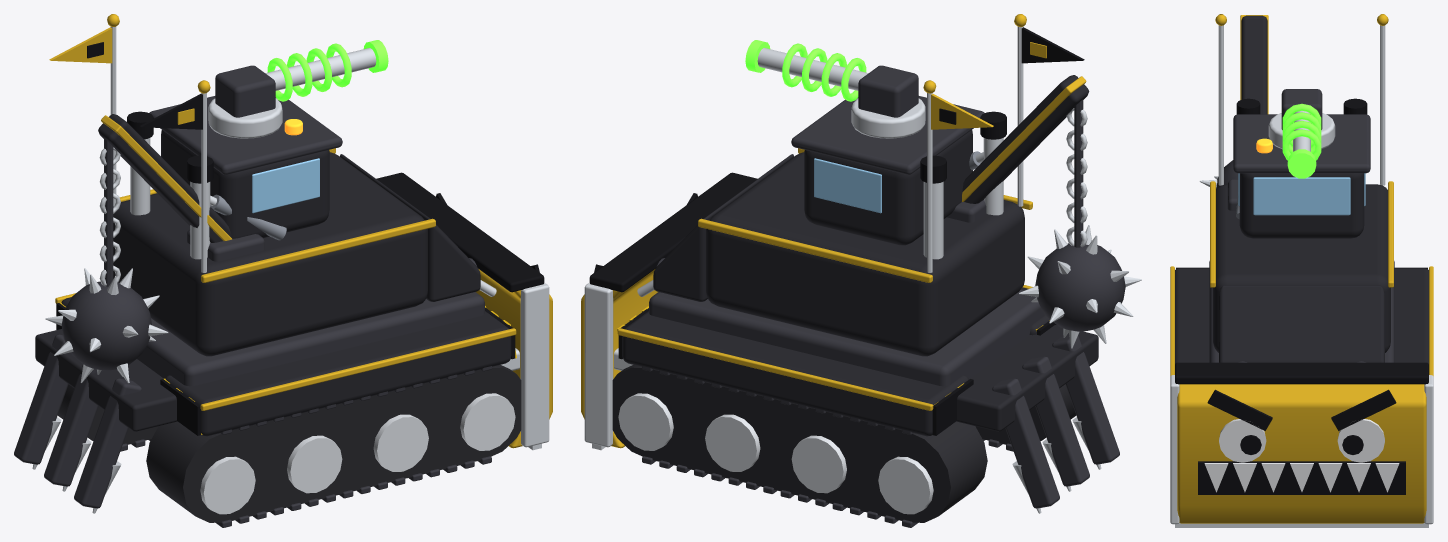
The model's file is vehicle_building_destroyer_t3.glb.
The picture shows the model from 3 angles, left to right: view 1: azimuth 30°, elevation 25°; view 2: azimuth 150°, elevation 25°; view 3: azimuth 270°, elevation 25°; orthographic projection. The views are drawn at different scales.
Visible parts, largest first — view 1: Hull.Upper, Track.Belt, Skirt, Hull, Crane.Star.Ball, Cab.Shell, Cab.Roof, Ripper.Beam, Blade.Rail, Blade.Wing, Ripper.Shank, Hull.Glacis (+30 smaller); view 2: Hull.Upper, Track.Belt.001, Skirt.001, Hull, Cab.Shell, Ripper.Beam, Crane.Star.Ball, Cab.Roof, Blade.Rail, Blade.Wing.001, Crane.Arm, Ripper.Shank.001 (+29 smaller); view 3: Blade.Shell, Hull.Glacis, Hull.Upper, Blade.Rail, Cab.Roof, Blade.Mouth, Cab.Shell, Cab.Windshield, Skirt, Skirt.001, Crane.Arm, Laser.Coil (+31 smaller).
Part boxes in pixels (x1,y1,x2,y2): Hull.Upper: [113, 152, 427, 356]; Track.Belt: [146, 365, 521, 522]; Skirt: [165, 311, 511, 436]; Hull: [137, 292, 484, 386]; Crane.Star.Ball: [61, 281, 151, 370]; Cab.Shell: [161, 130, 329, 238]; Cab.Roof: [149, 96, 342, 174]; Ripper.Beam: [35, 329, 177, 431]; Blade.Rail: [376, 172, 544, 292]; Blade.Wing: [520, 283, 549, 447]; Ripper.Shank: [74, 378, 141, 508]; Hull.Glacis: [340, 154, 480, 301]; Hull.Upper: [706, 152, 1024, 356]; Track.Belt.001: [612, 365, 987, 522]; Skirt.001: [622, 311, 968, 436]; Hull: [649, 289, 1045, 386]; Cab.Shell: [804, 130, 972, 245]; Ripper.Beam: [956, 325, 1098, 431]; Crane.Star.Ball: [1035, 243, 1125, 331]; Cab.Roof: [791, 96, 984, 174]; Blade.Rail: [589, 172, 757, 292]; Blade.Wing.001: [584, 283, 613, 447]; Crane.Arm: [962, 75, 1089, 203]; Ripper.Shank.001: [1022, 356, 1089, 486]; Blade.Shell: [1177, 384, 1426, 523]; Hull.Glacis: [1219, 285, 1384, 362]; Hull.Upper: [1213, 184, 1390, 352]; Blade.Rail: [1175, 362, 1428, 384]; Cab.Roof: [1233, 114, 1370, 173]; Blade.Mouth: [1198, 461, 1405, 494]; Cab.Shell: [1239, 173, 1364, 238]; Cab.Windshield: [1253, 177, 1350, 215]; Skirt: [1175, 268, 1209, 363]; Skirt.001: [1394, 268, 1428, 363]; Crane.Arm: [1241, 15, 1267, 114]; Laser.Coil: [1282, 103, 1321, 160].
Bounding box in the file's own units: 4.02 × 3.53 × 2.22.
